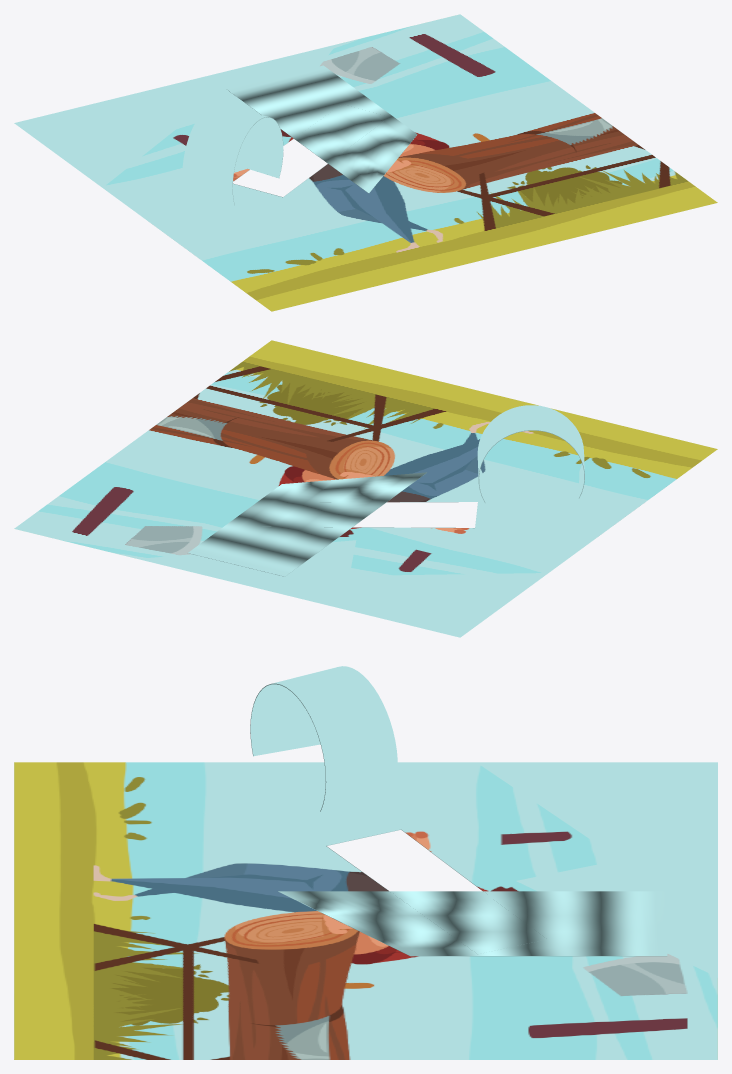
3 views of the same model, one above another, from view 1: azimuth 30°, elevation 25°; view 2: azimuth 150°, elevation 25°; view 3: azimuth 270°, elevation 25° (orthographic). The views are drawn at different scales.
Visible parts, largest first — view 1: Mesh, Blend1, Blend; view 2: Mesh, Blend1, Blend; view 3: Mesh, Blend1, Blend.
Part boxes in pixels (x1=…): Mesh: x1=14, y1=14, x2=717, y2=311; Blend1: x1=226, y1=65, x2=417, y2=193; Blend: x1=182, y1=104, x2=283, y2=205; Mesh: x1=14, y1=340, x2=717, y2=637; Blend1: x1=188, y1=472, x2=426, y2=576; Blend: x1=477, y1=405, x2=584, y2=502; Mesh: x1=14, y1=762, x2=717, y2=1059; Blend1: x1=278, y1=891, x2=667, y2=956; Blend: x1=250, y1=666, x2=397, y2=812.
Size of the model in its own units: 2400 by 495 by 2400.
